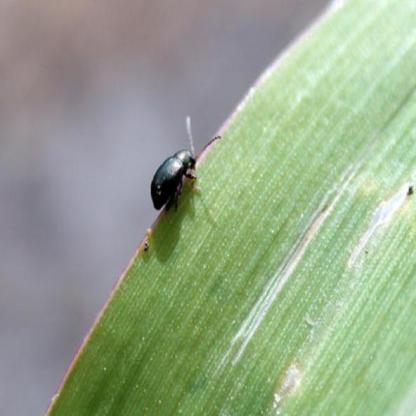beetle: (147, 136, 206, 206)
